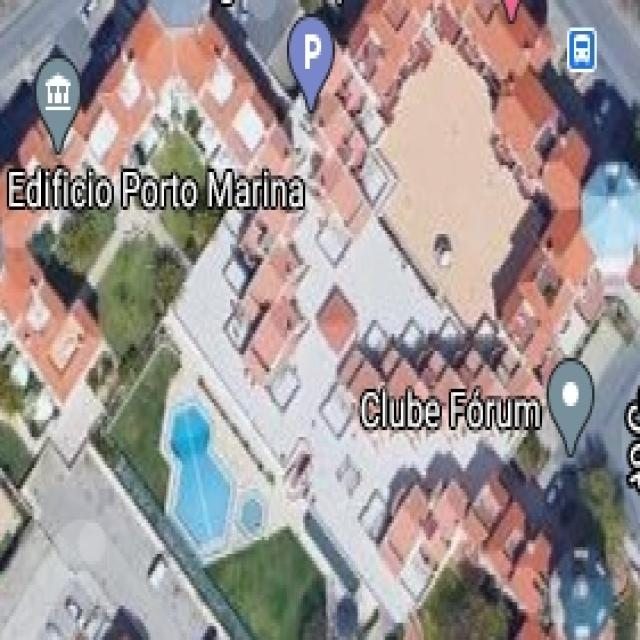pool: (137, 384, 255, 590), (235, 486, 272, 544)
